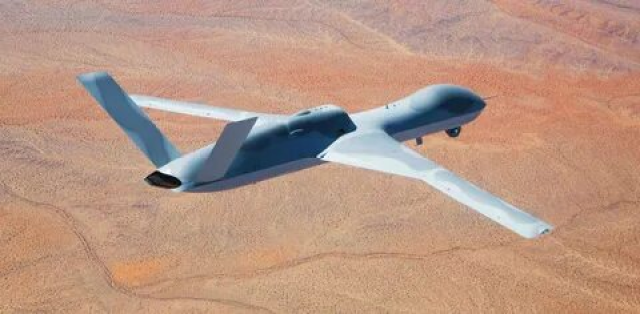military drone: (75, 70, 553, 239)
